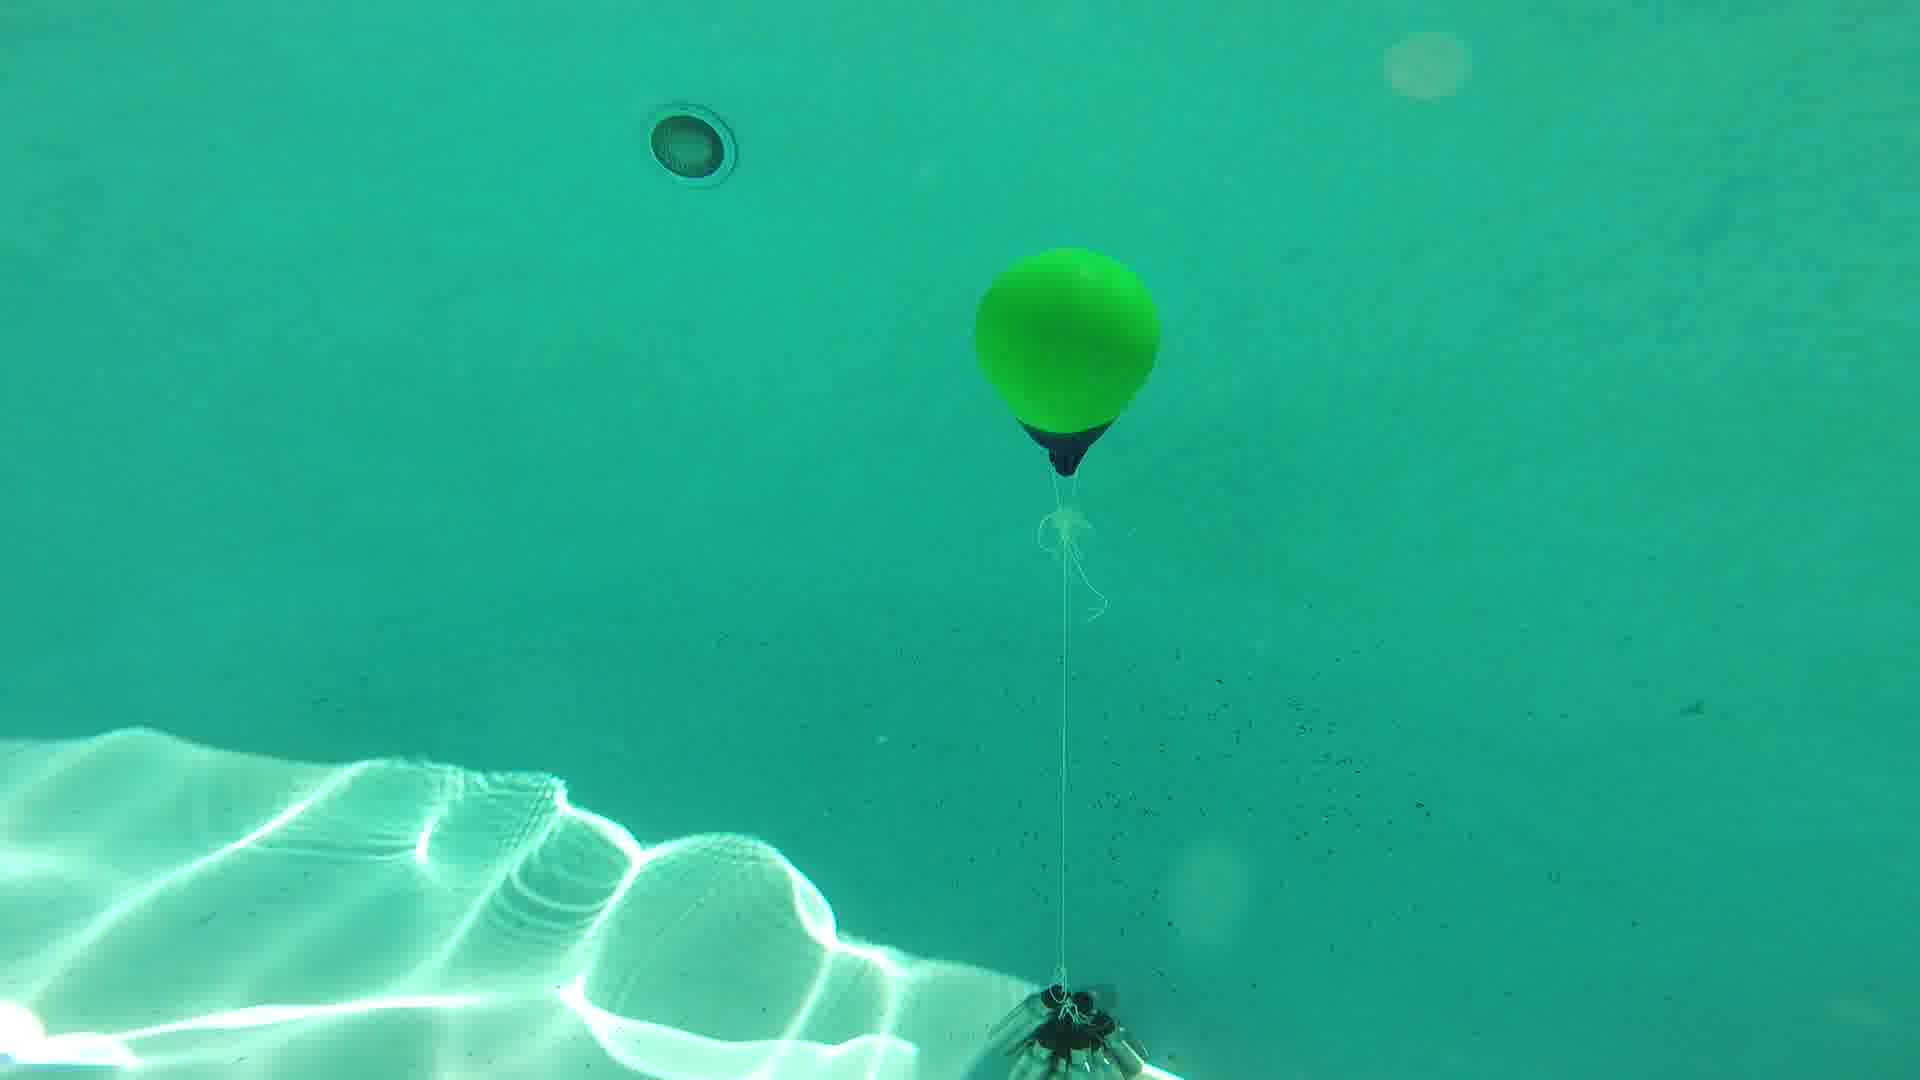yellow_buoy: (971, 249, 1163, 477)
